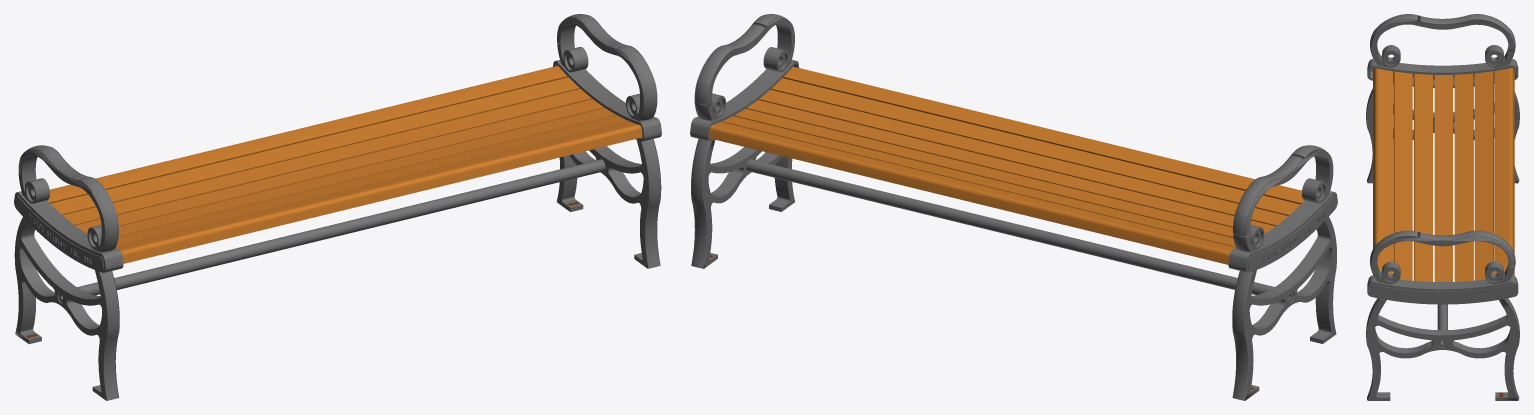
3 views of the same model, side by side, from view 1: azimuth 30°, elevation 25°; view 2: azimuth 150°, elevation 25°; view 3: azimuth 270°, elevation 25° (orthographic). The views are drawn at different scales.
Visible parts, largest first — view 1: mesh144_mesh144-geometry, mesh39_mesh39-geometry, mesh3_mesh3-geometry, mesh43_mesh43-geometry, mesh42_mesh42-geometry, mesh41_mesh41-geometry, mesh51_mesh51-geometry, mesh37_mesh37-geometry, mesh38_mesh38-geometry, mesh40_mesh40-geometry; view 2: mesh144_mesh144-geometry, mesh42_mesh42-geometry, mesh3_mesh3-geometry, mesh40_mesh40-geometry, mesh39_mesh39-geometry, mesh38_mesh38-geometry, mesh51_mesh51-geometry, mesh37_mesh37-geometry, mesh41_mesh41-geometry, mesh43_mesh43-geometry; view 3: mesh3_mesh3-geometry, mesh144_mesh144-geometry, mesh43_mesh43-geometry, mesh41_mesh41-geometry, mesh42_mesh42-geometry, mesh40_mesh40-geometry, mesh38_mesh38-geometry, mesh37_mesh37-geometry, mesh39_mesh39-geometry, mesh51_mesh51-geometry.
Boxes of the visible parts, x1,y1,x2,y2 form: mesh144_mesh144-geometry: (14,145,123,400); mesh39_mesh39-geometry: (115,121,642,263); mesh3_mesh3-geometry: (553,14,661,268); mesh43_mesh43-geometry: (50,77,580,215); mesh42_mesh42-geometry: (47,66,568,203); mesh41_mesh41-geometry: (63,89,592,225); mesh51_mesh51-geometry: (77,159,605,295); mesh37_mesh37-geometry: (75,99,604,233); mesh38_mesh38-geometry: (118,108,616,236); mesh40_mesh40-geometry: (116,115,628,246); mesh144_mesh144-geometry: (1228,145,1337,400); mesh42_mesh42-geometry: (709,122,1236,264); mesh3_mesh3-geometry: (690,14,799,268); mesh40_mesh40-geometry: (770,78,1300,215); mesh39_mesh39-geometry: (783,66,1304,204); mesh38_mesh38-geometry: (758,89,1287,226); mesh51_mesh51-geometry: (746,159,1274,294); mesh37_mesh37-geometry: (746,100,1275,233); mesh41_mesh41-geometry: (733,108,1233,237); mesh43_mesh43-geometry: (721,116,1236,247); mesh3_mesh3-geometry: (1366,230,1519,400); mesh144_mesh144-geometry: (1366,14,1519,183); mesh43_mesh43-geometry: (1474,71,1494,280); mesh41_mesh41-geometry: (1454,73,1473,281); mesh42_mesh42-geometry: (1494,68,1514,275); mesh40_mesh40-geometry: (1393,71,1412,280); mesh38_mesh38-geometry: (1414,73,1432,281); mesh37_mesh37-geometry: (1434,74,1452,281); mesh39_mesh39-geometry: (1373,68,1392,274); mesh51_mesh51-geometry: (1437,304,1447,330).
Size of the model in its own units: 0.912 by 0.314 by 0.2641.
